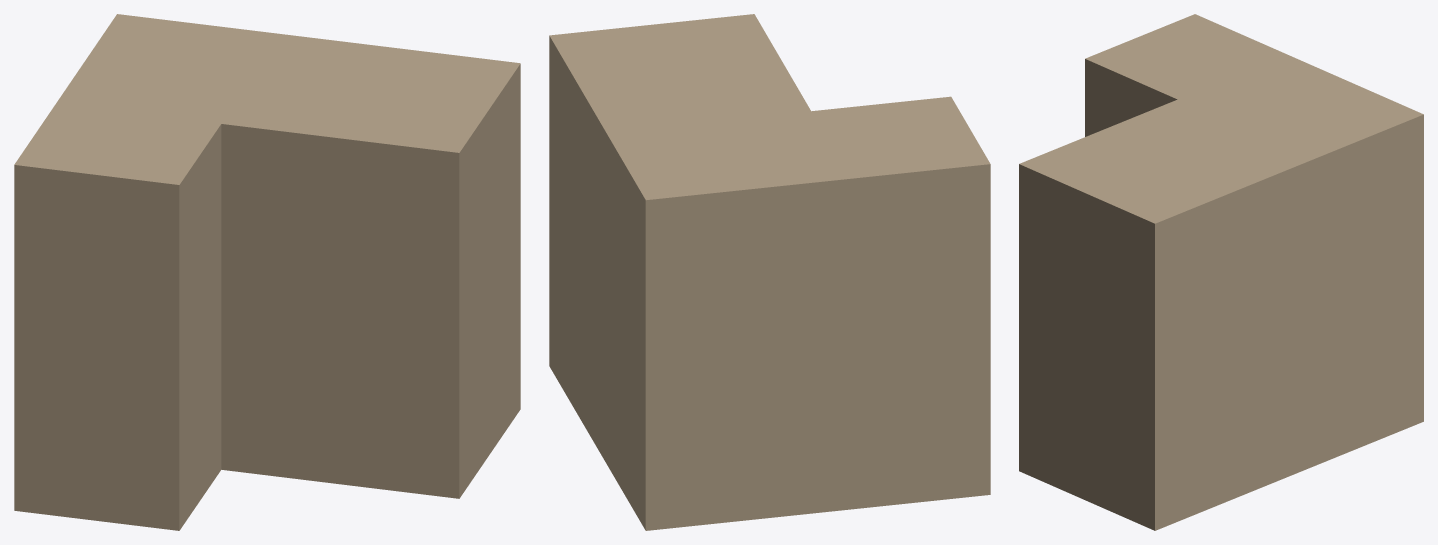
The model's file is bld_99549216.dae.
3 views of the same model, side by side, from view 1: azimuth 30°, elevation 25°; view 2: azimuth 150°, elevation 25°; view 3: azimuth 270°, elevation 25° (orthographic). The views are drawn at different scales.
Visible parts, largest first — view 1: bld_99549216; view 2: bld_99549216; view 3: bld_99549216.
Boxes of the visible parts, x1,y1,x2,y2 form: bld_99549216: (14, 14, 520, 530); bld_99549216: (549, 14, 990, 530); bld_99549216: (1019, 14, 1423, 530).
Bounding box in the file's own units: 11.72 × 9.56 × 8.
